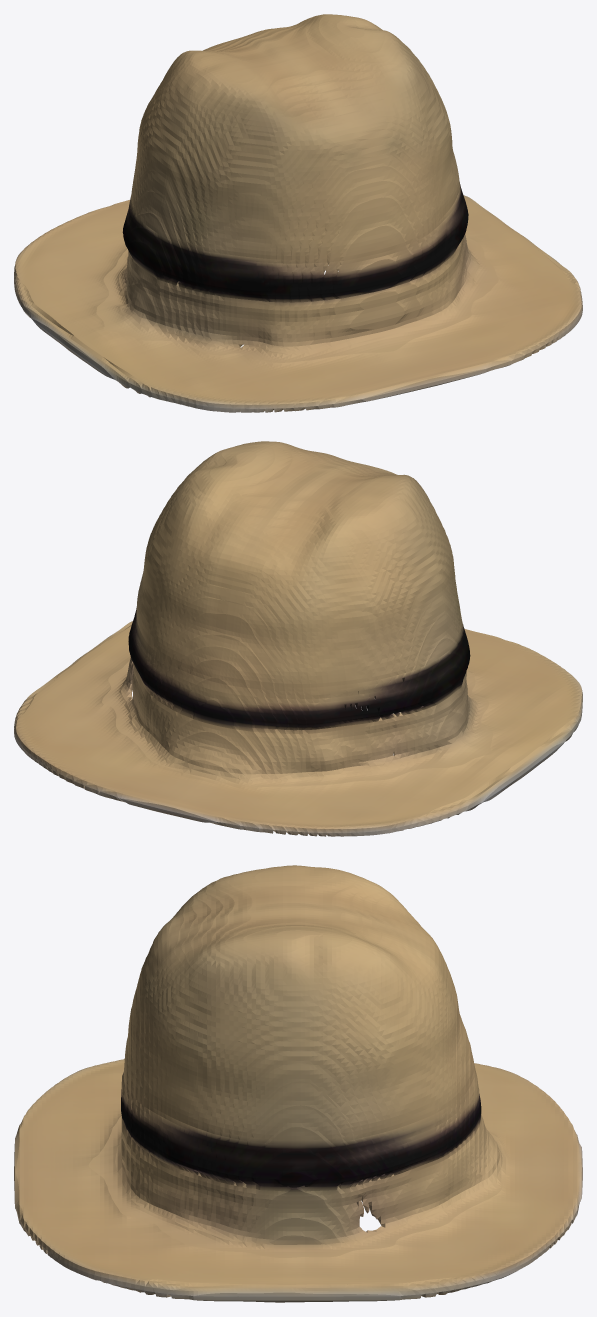
The picture shows the model from 3 angles, top to bottom: view 1: azimuth 30°, elevation 25°; view 2: azimuth 150°, elevation 25°; view 3: azimuth 270°, elevation 25°; orthographic projection. The views are drawn at different scales.
Parts seen in each view (by area): view 1: world; view 2: world; view 3: world.
Part boxes in pixels (x1,y1,x2,y2): world: [14, 14, 582, 412]; world: [14, 441, 582, 836]; world: [14, 865, 582, 1302].
Bounding box in the file's own units: 1.98 × 1.06 × 1.98.
